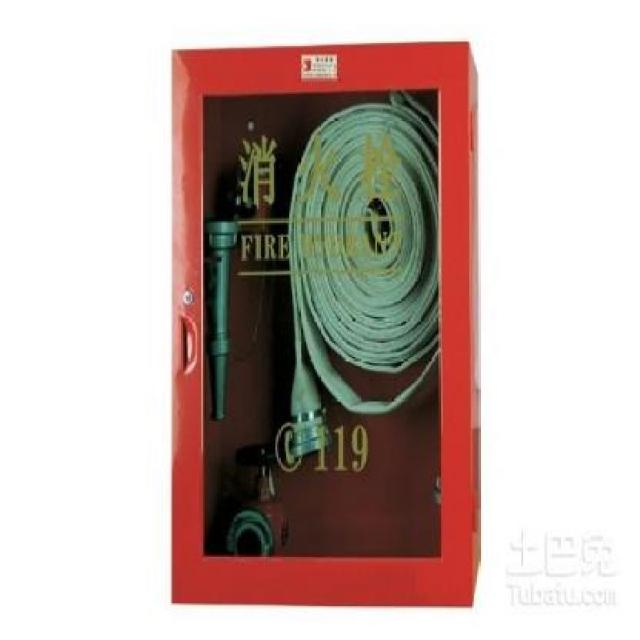firehydrant: (166, 34, 484, 611)
